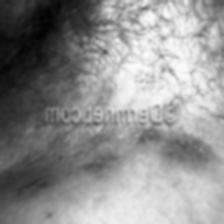Non-Cancerous Skin Condition: (130, 127, 218, 171), (82, 147, 110, 183)
